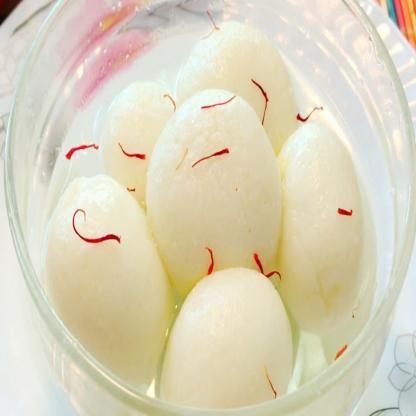rasgulla: (41, 174, 175, 392), (146, 89, 283, 292), (158, 260, 294, 410), (276, 119, 369, 334), (176, 18, 300, 155), (102, 80, 178, 211)
